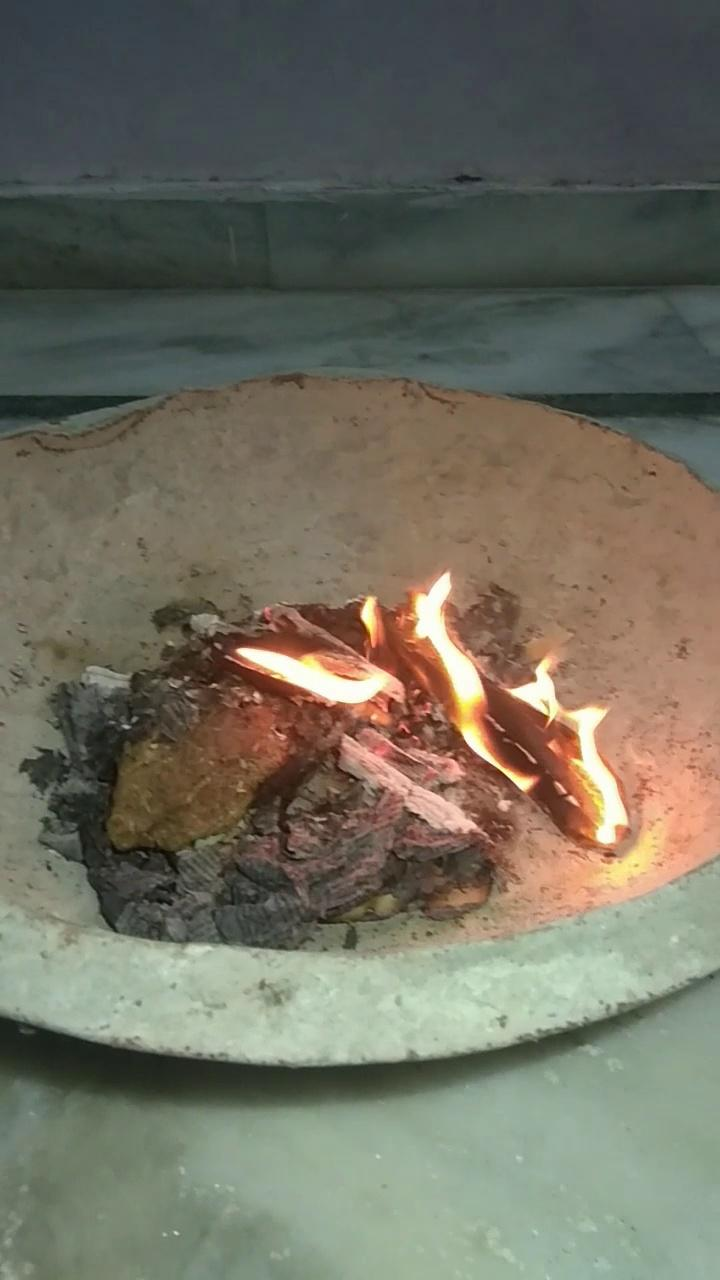fire: (244, 510, 636, 890)
